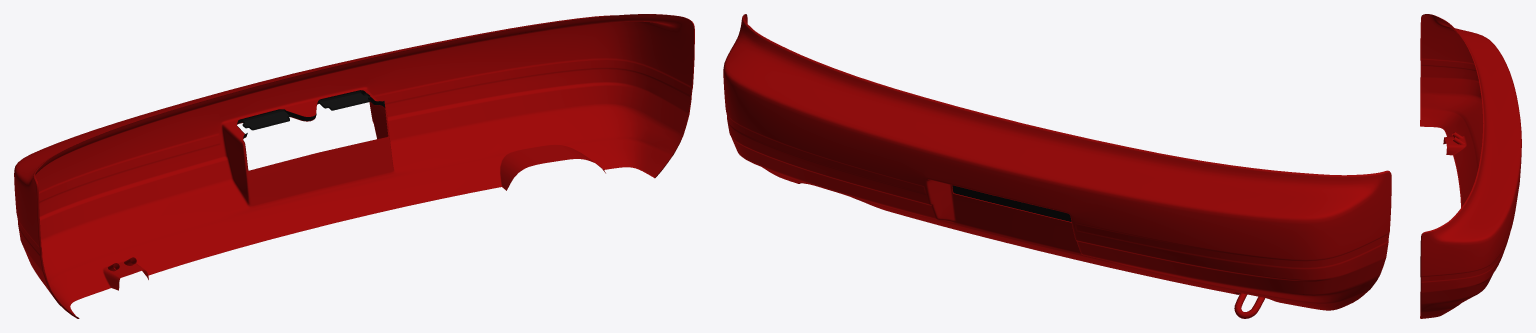
Rendered from rearbumper_oem.glb.
3 renders of one model, left to right at view 1: azimuth 30°, elevation 25°; view 2: azimuth 150°, elevation 25°; view 3: azimuth 270°, elevation 25°, orthographic. The views are drawn at different scales.
Visible parts, largest first — view 1: bumper, plate; view 2: bumper, plate; view 3: bumper, hooks.
Part boxes in pixels (x1,y1,x2,y2): bumper: (14, 14, 694, 318); plate: (237, 90, 385, 138); bumper: (723, 14, 1391, 310); plate: (952, 185, 1071, 221); bumper: (1420, 14, 1521, 318); hooks: (1450, 131, 1464, 155).
Bounding box in the file's own units: 1.61 × 0.3518 × 0.3157.
